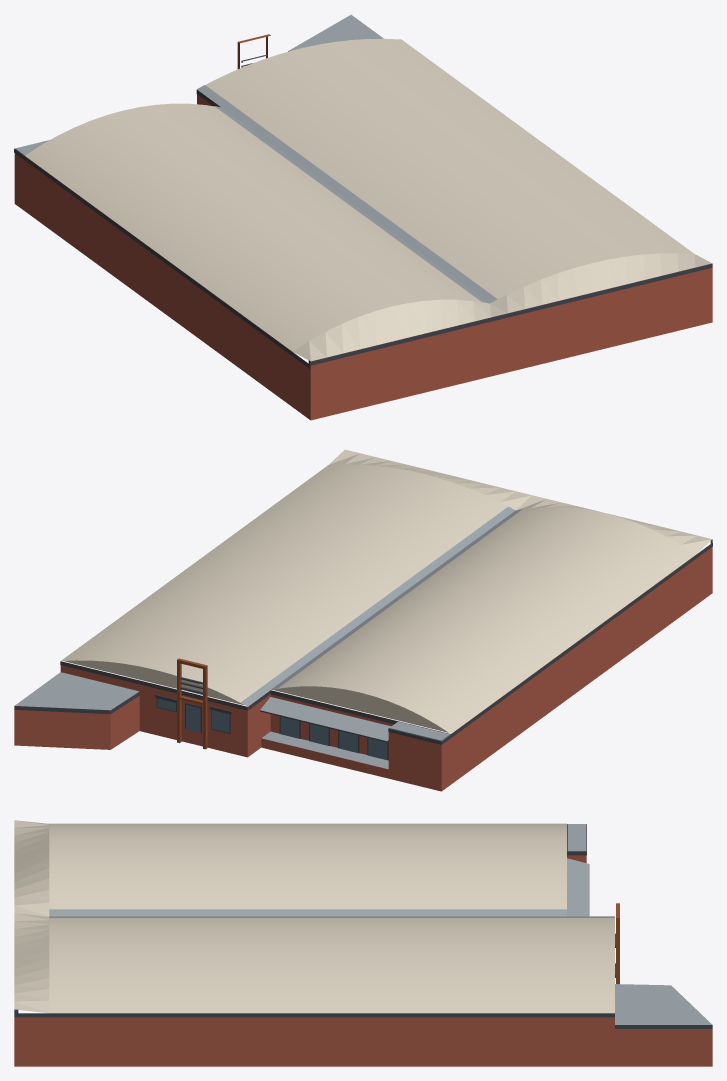
Rendered from clt-urban-district-market.glb.
3 renders of one model, top to bottom at view 1: azimuth 30°, elevation 25°; view 2: azimuth 150°, elevation 25°; view 3: azimuth 270°, elevation 25°, orthographic. The views are drawn at different scales.
Parts seen in each view (by area): view 1: Urban District Market; view 2: Urban District Market; view 3: Urban District Market.
Part boxes in pixels (<box>): Urban District Market: <box>14,14,712,420</box>; Urban District Market: <box>14,449,712,791</box>; Urban District Market: <box>14,820,712,1066</box>.
Size of the model in its own units: 45.65 by 9.8 by 71.04.
